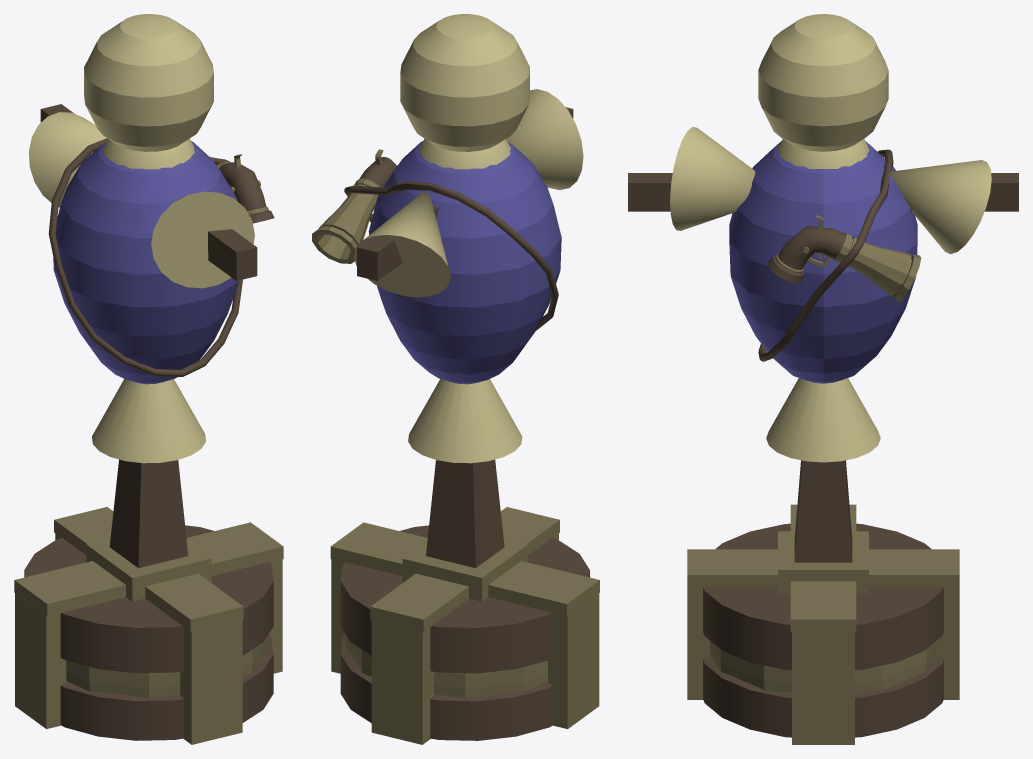
Rendered from PR_Dummy_T.fbx.
3 views of the same model, side by side, from view 1: azimuth 30°, elevation 25°; view 2: azimuth 150°, elevation 25°; view 3: azimuth 270°, elevation 25° (orthographic).
Visible parts, largest first — view 1: Dummywith_gun:Dummy; view 2: Dummywith_gun:Dummy; view 3: Dummywith_gun:Dummy.
Boxes of the visible parts, bbox=[...] form: Dummywith_gun:Dummy: bbox=[14, 14, 283, 744]; Dummywith_gun:Dummy: bbox=[312, 14, 599, 744]; Dummywith_gun:Dummy: bbox=[628, 14, 1018, 744].
Bounding box in the file's own units: 2.18 × 5.89 × 3.13.
